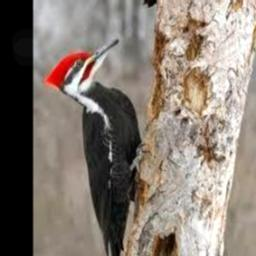Woodpecker: (43, 37, 142, 256)
